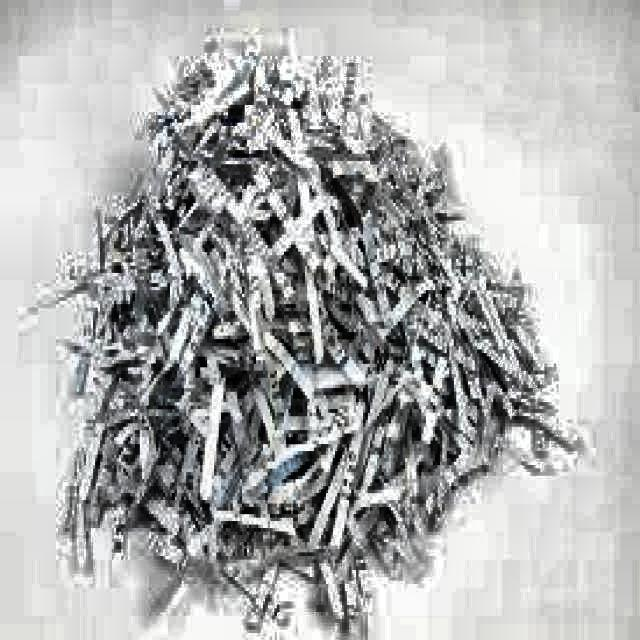Paper: (51, 32, 577, 637)
